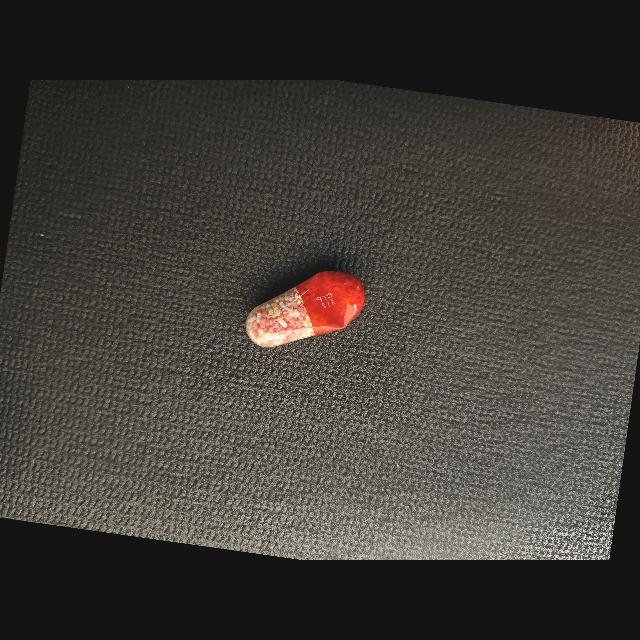Defective Capsule: (246, 271, 365, 348)
